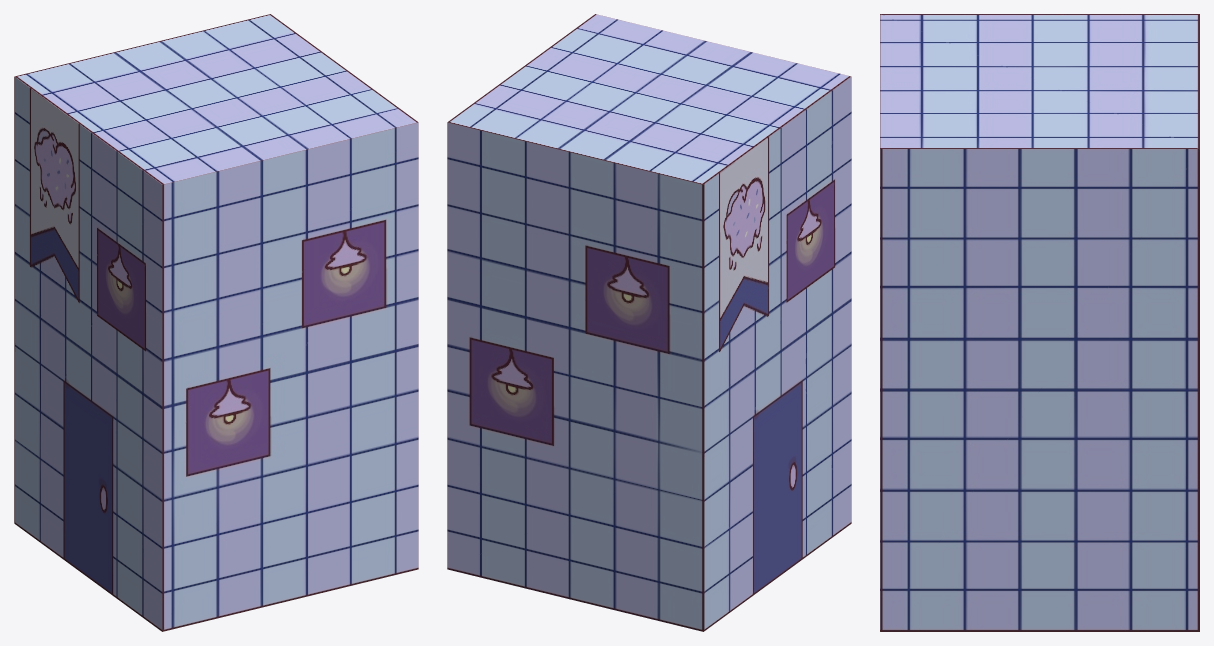
The model's file is D_Building11.fbx.
The picture shows the model from 3 angles, left to right: view 1: azimuth 30°, elevation 25°; view 2: azimuth 150°, elevation 25°; view 3: azimuth 270°, elevation 25°; orthographic projection. The views are drawn at different scales.
Parts seen in each view (by area): view 1: Box001; view 2: Box001; view 3: Box001.
Boxes of the visible parts, box(x1,y1,x2,y2) form: Box001: box(14, 14, 418, 631); Box001: box(447, 14, 851, 631); Box001: box(880, 14, 1199, 631).
Size of the model in its own units: 360 by 600 by 360.
1 material, 1 textured.
